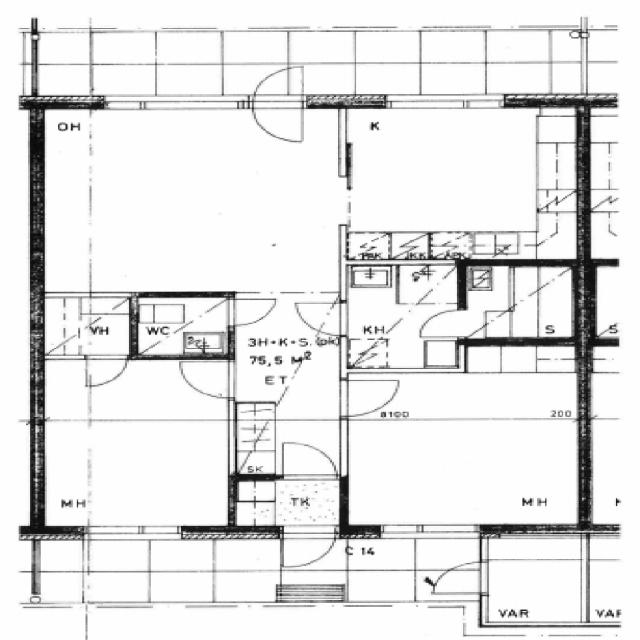door: (248, 56, 304, 110), (248, 96, 304, 149), (281, 524, 336, 577), (281, 435, 337, 481), (340, 379, 402, 417), (177, 362, 236, 398), (291, 303, 349, 337), (434, 561, 488, 594), (86, 354, 126, 388), (420, 310, 466, 337), (228, 302, 270, 326)
